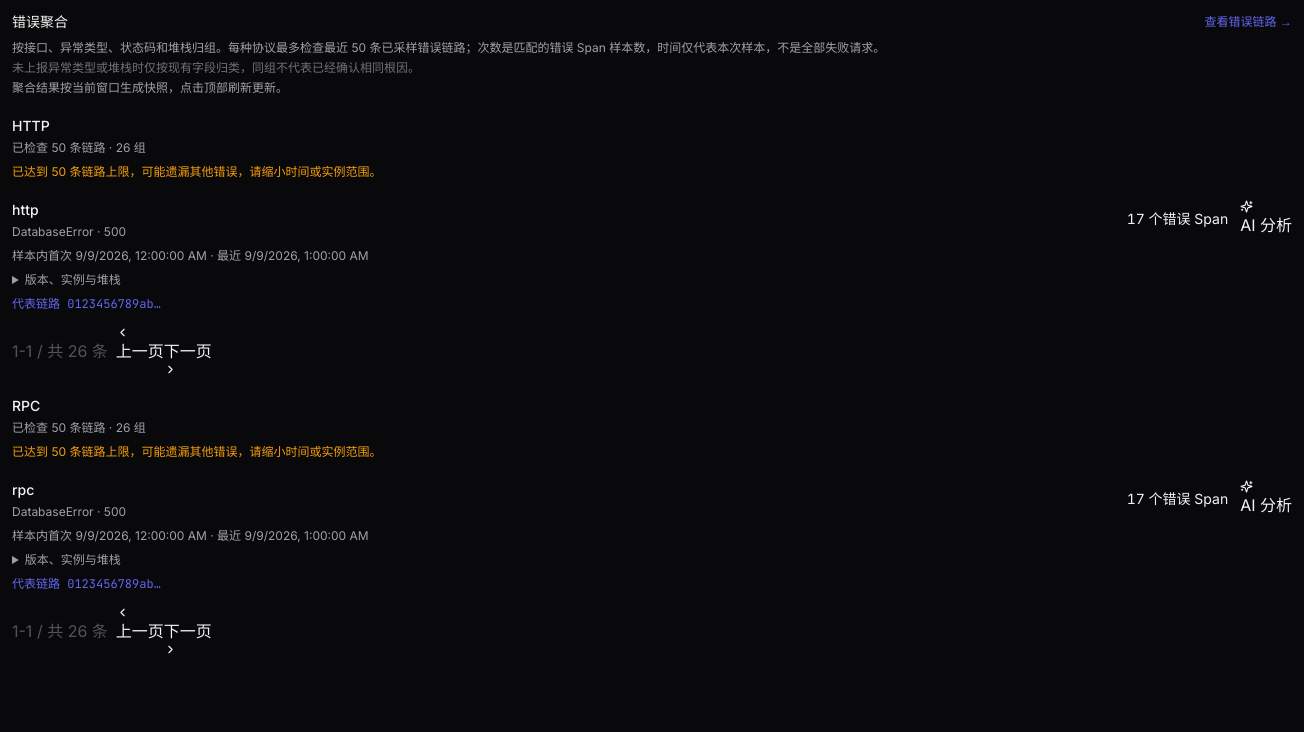
Scenario: Error aggregation › retries an expired page with a fresh first page without reloading the other protocol
expect the text "http" is shown: met, box [12,201,39,218]
expect the text "rpc" is shown: met, box [12,481,34,498]
Click the 1st button "下一页".
click(188, 358)  # box [164,339,212,376]
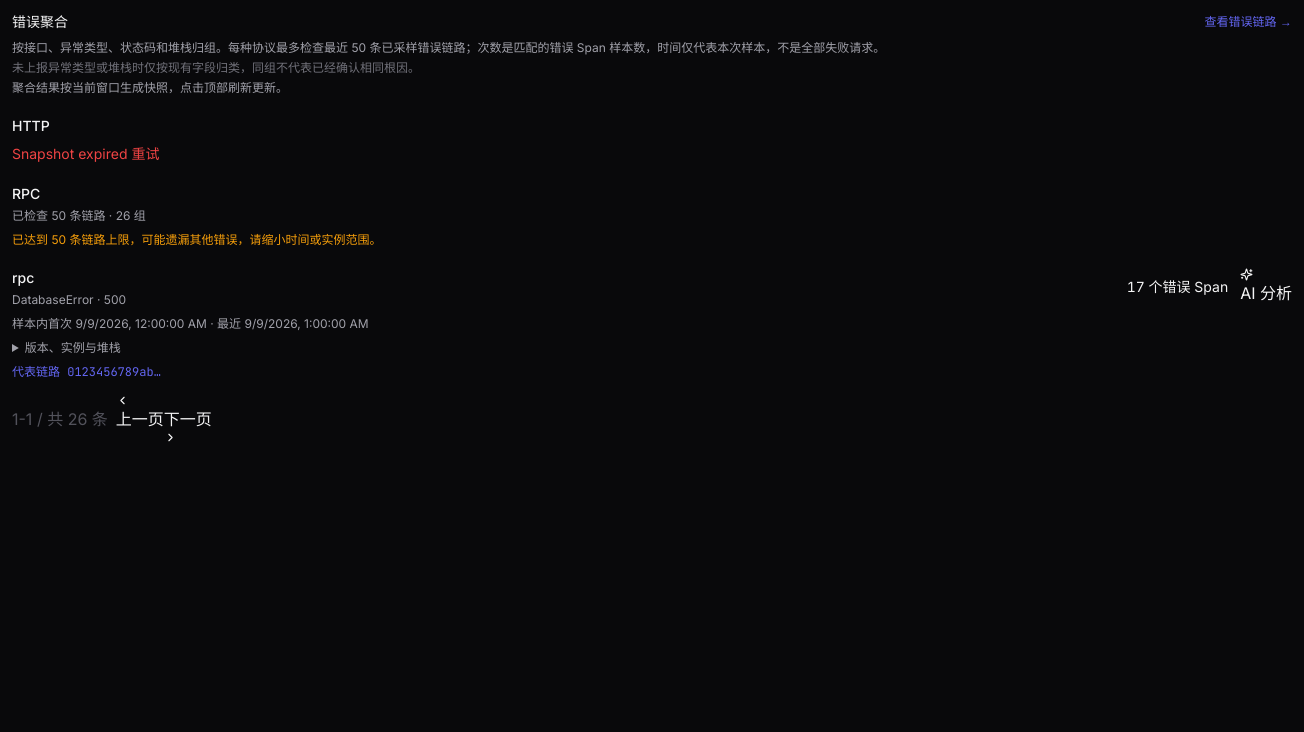
expect the message "Snapshot expired 重试" is shown: met, box [12,144,159,164]
Click the button "重试".
click(145, 154)  # box [131,144,159,164]
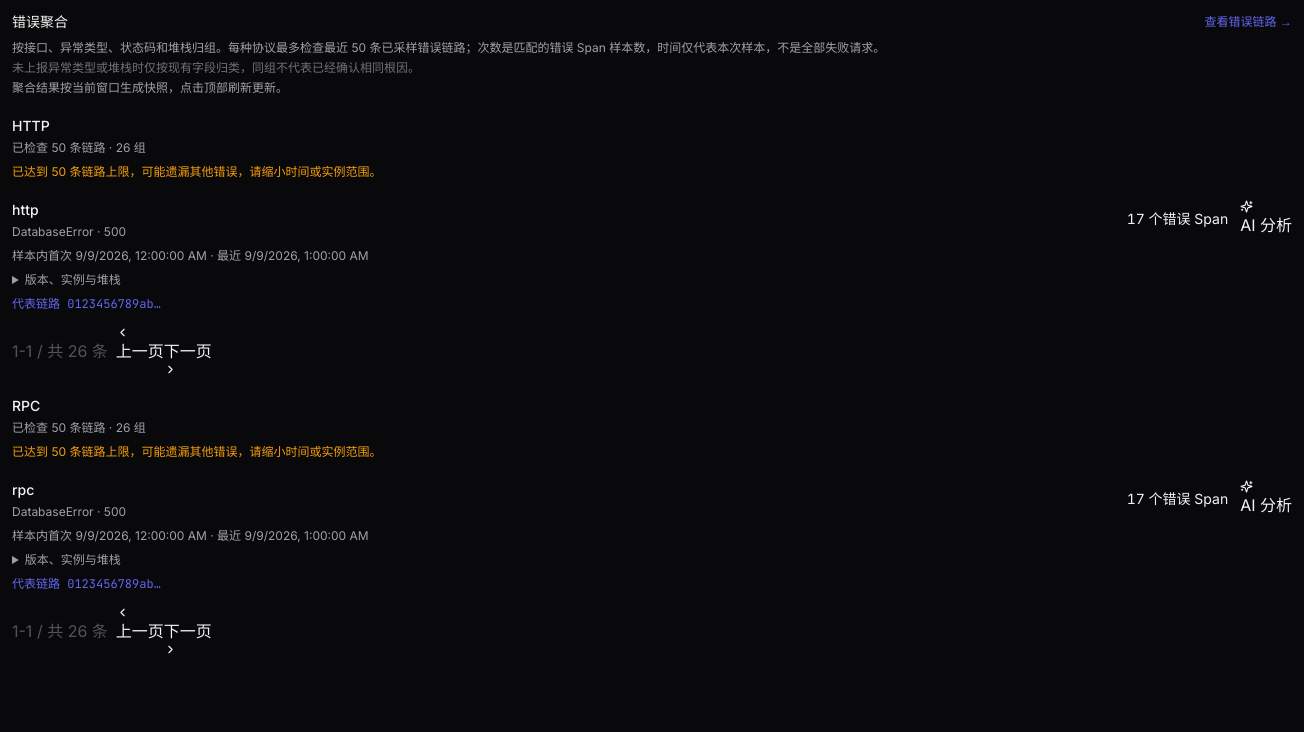
expect the text "http" is shown: met, box [12,201,39,218]
